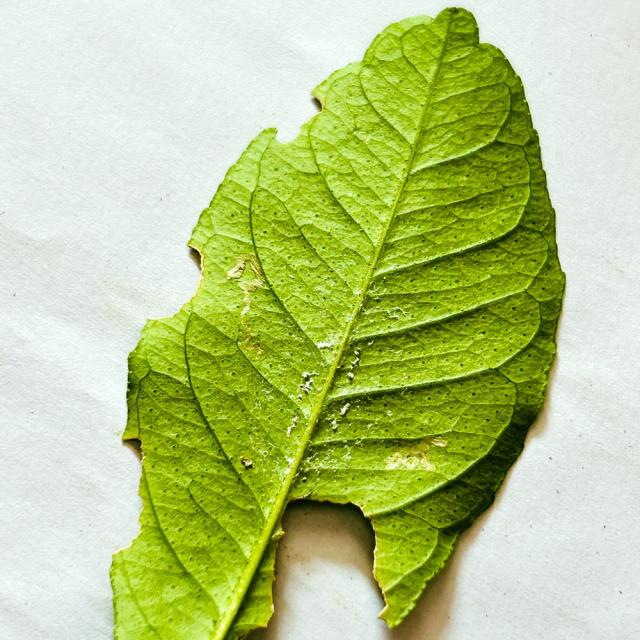Deficiency Leaf: (252, 503, 392, 639), (103, 442, 144, 557), (145, 245, 201, 317), (275, 93, 321, 143)
Lemon: (111, 8, 565, 639)
